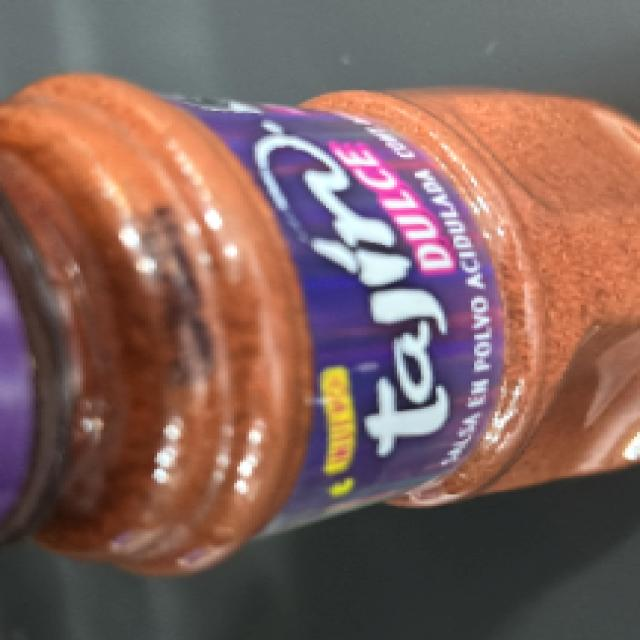tajinDulce: (3, 91, 636, 507)
